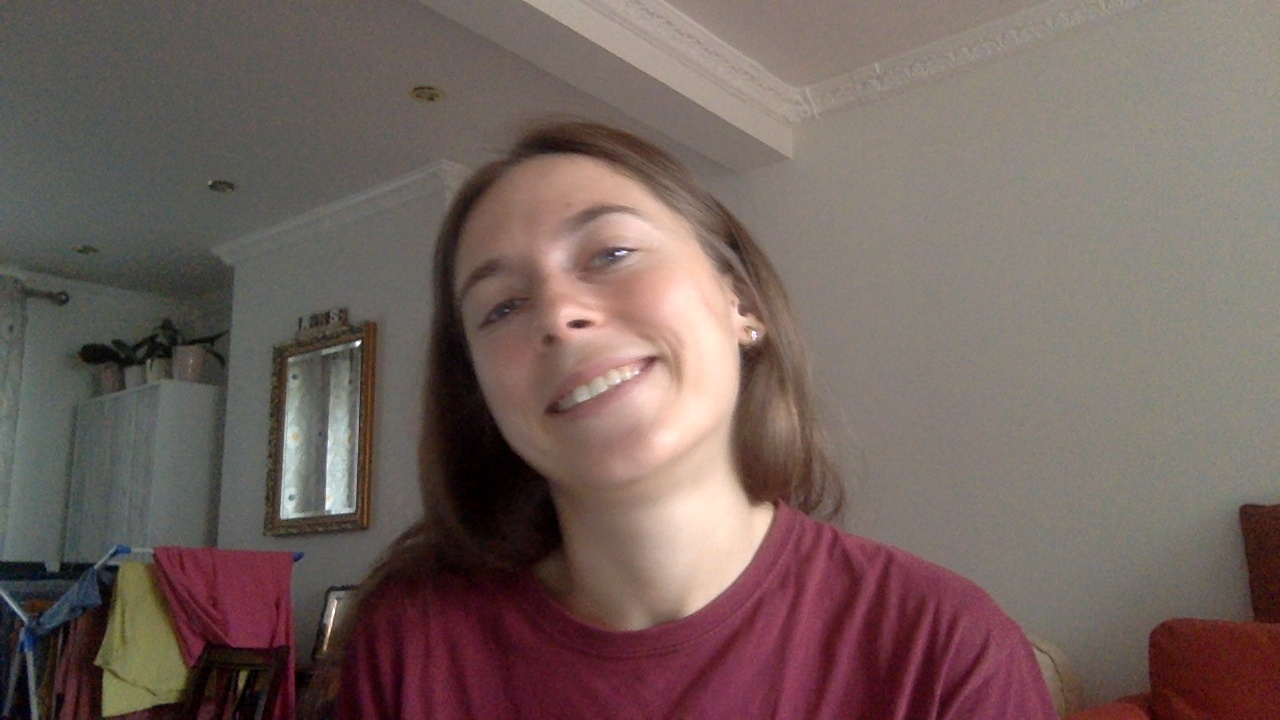smile: (539, 351, 660, 425)
